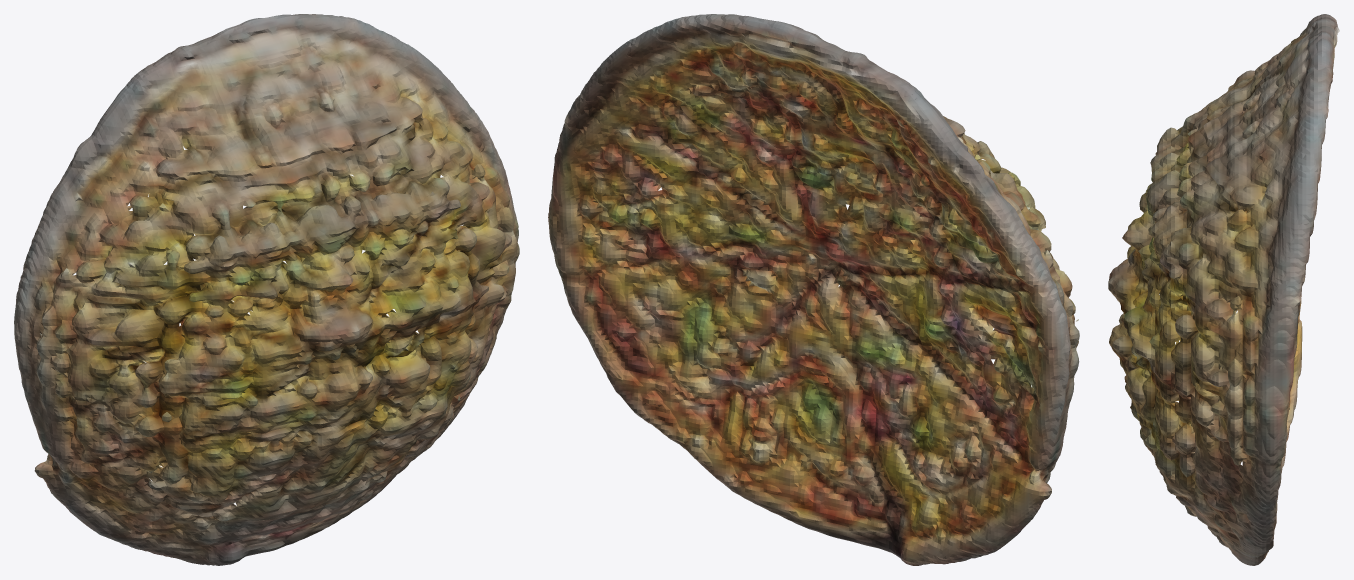
Rendered from item-3d-5791fe9b-2b83-48f3-b1ab-402542767514.glb.
The picture shows the model from 3 angles, left to right: view 1: azimuth 30°, elevation 25°; view 2: azimuth 150°, elevation 25°; view 3: azimuth 270°, elevation 25°; orthographic projection. The views are drawn at different scales.
Visible parts, largest first — view 1: world; view 2: world; view 3: world.
Part boxes in pixels (bbox=[...]): world: bbox=[14, 14, 519, 565]; world: bbox=[548, 14, 1079, 565]; world: bbox=[1108, 14, 1339, 565].
Size of the model in its own units: 0.9922 by 0.9615 by 0.3973.
